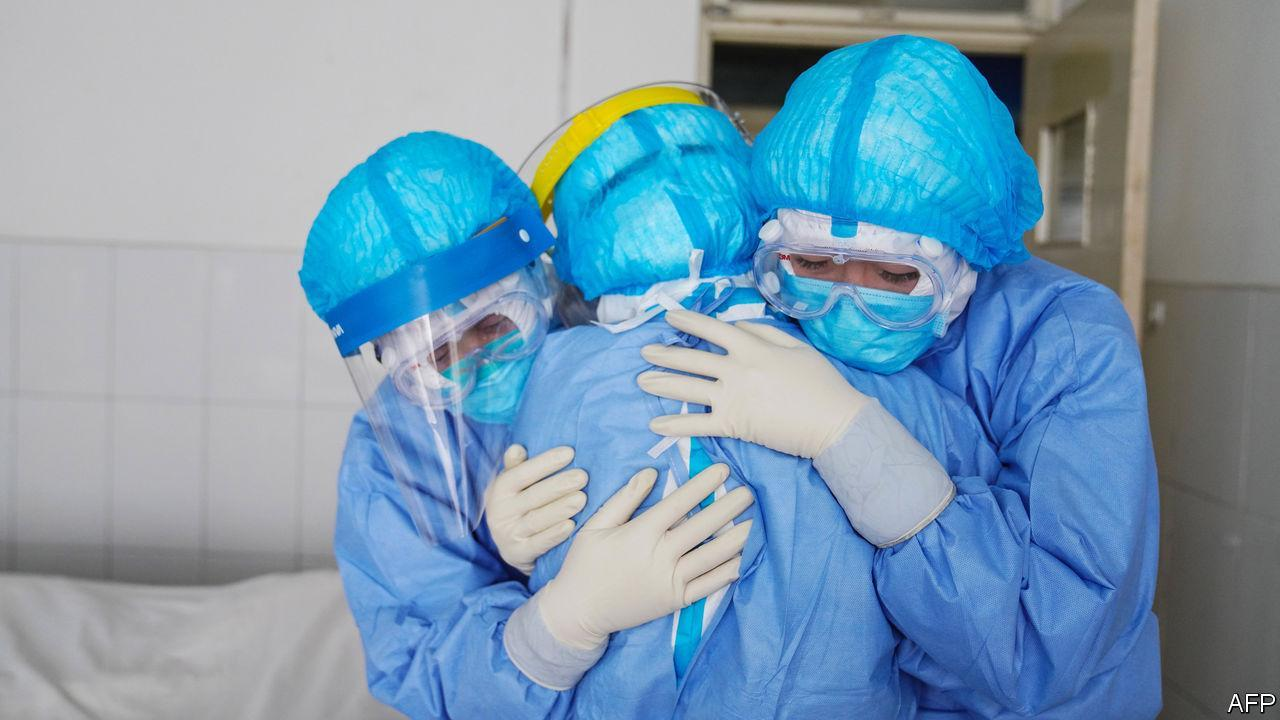Face_Shield: (331, 227, 589, 550)
Gloves: (630, 304, 960, 546), (501, 461, 754, 690), (484, 440, 589, 573)
Goggles: (754, 233, 960, 338), (392, 294, 554, 403)
